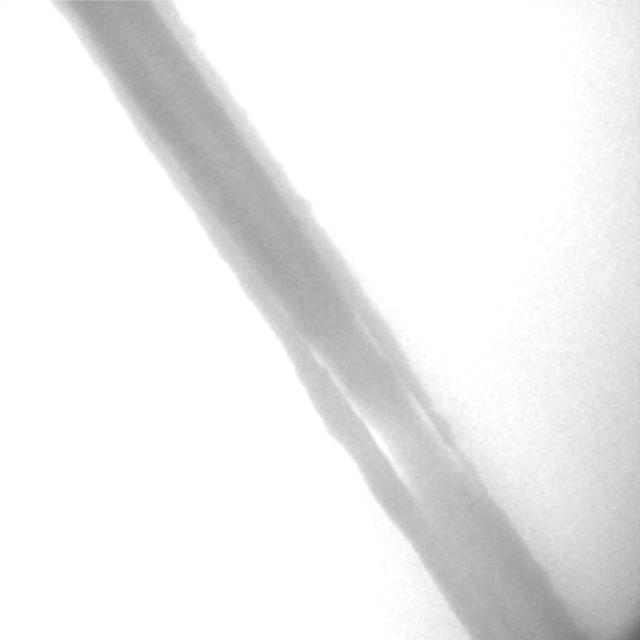unfused: (315, 313, 448, 494)
